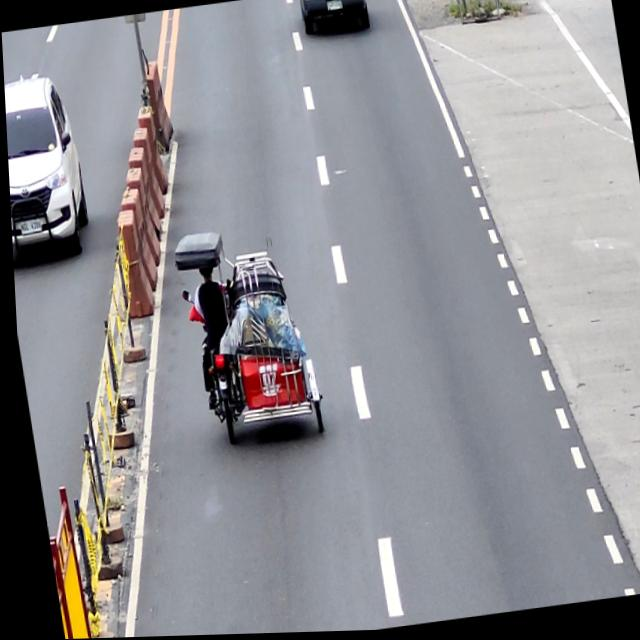Tricycle: (167, 220, 324, 450)
